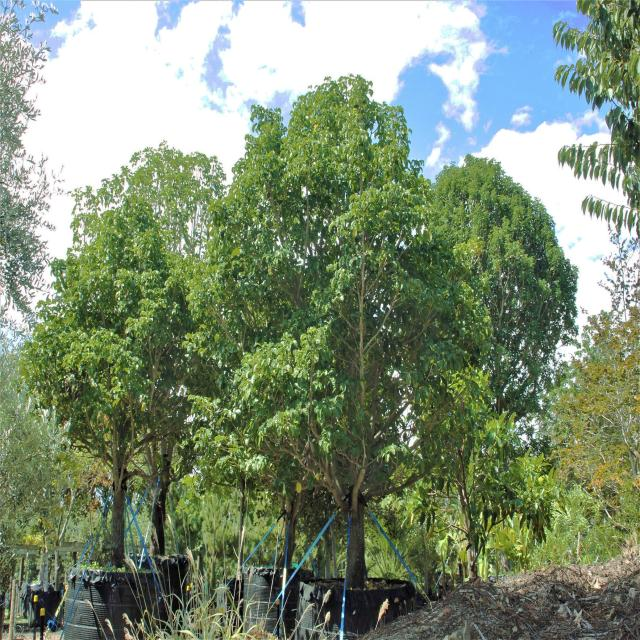Vitex lucens: (228, 82, 424, 590), (4, 146, 232, 573), (396, 151, 581, 584)
